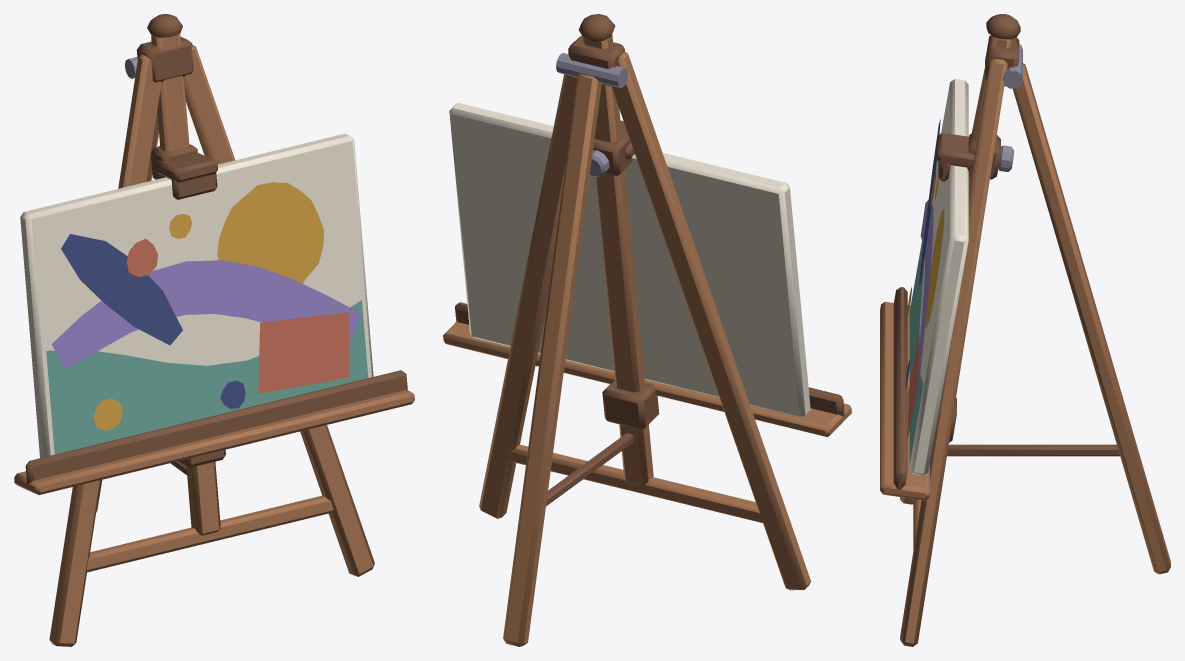
Rendered from lm_easel.glb.
3 views of the same model, side by side, from view 1: azimuth 30°, elevation 25°; view 2: azimuth 150°, elevation 25°; view 3: azimuth 270°, elevation 25° (orthographic). The views are drawn at different scales.
Parts seen in each view (by area): view 1: LandmarkEaselMesh; view 2: LandmarkEaselMesh; view 3: LandmarkEaselMesh.
Part boxes in pixels (left/top/right/bottom): LandmarkEaselMesh: left=14, top=14, right=414, bottom=646; LandmarkEaselMesh: left=443, top=14, right=851, bottom=646; LandmarkEaselMesh: left=880, top=14, right=1170, bottom=646.
Size of the model in its own units: 30 by 42.36 by 20.
